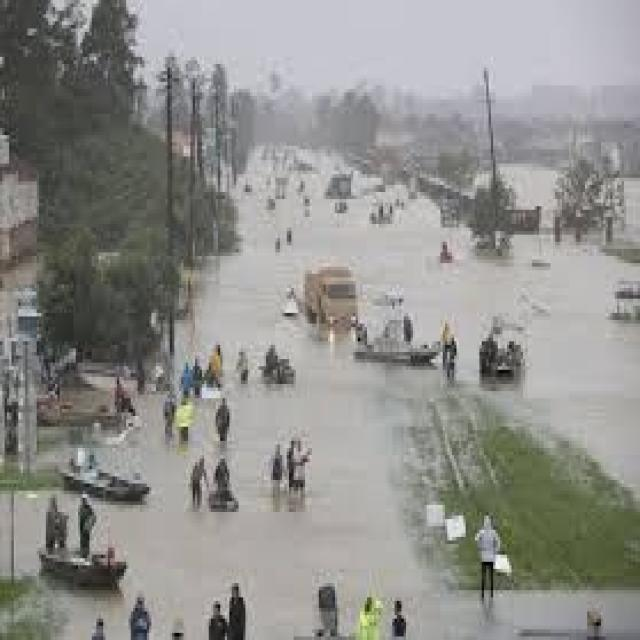flooded_areas: (18, 149, 590, 636)
